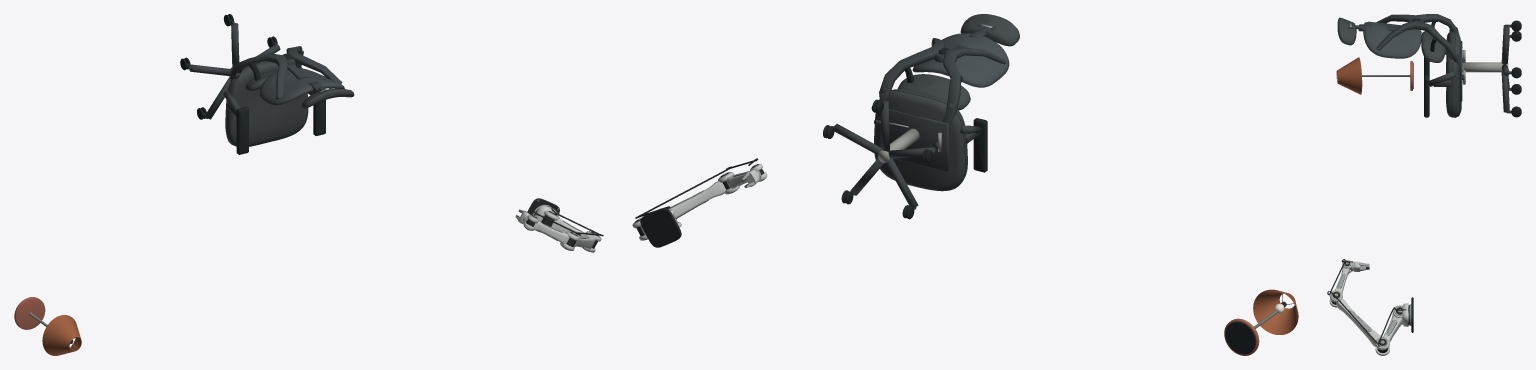
The model's file is desk-details.glb.
3 views of the same model, side by side, from view 1: azimuth 30°, elevation 25°; view 2: azimuth 150°, elevation 25°; view 3: azimuth 270°, elevation 25° (orthographic). The views are drawn at different scales.
Visible parts, largest first — view 1: C01 Upholstery / graphite twill, C01 Satin graphite casting, C01 Recessed carbon polymer, C01 Backrest / slate knit, R01 Robot powder-coated slate, L01 Satin copper shade, R01 Robot cable jacket, L01 Dusty terracotta lacquer; view 2: C01 Satin graphite casting, C01 Upholstery / graphite twill, C01 Backrest / slate knit, R01 Robot cable jacket, C01 Recessed carbon polymer, L01 Satin copper shade, R01 Robot powder-coated slate, L01 Recessed carbon polymer, C01 Turned fasteners; view 3: C01 Satin graphite casting, C01 Upholstery / graphite twill, C01 Backrest / slate knit, R01 Robot powder-coated slate, C01 Recessed carbon polymer, L01 Satin copper shade, R01 Robot machined bearing rims, R01 Robot cable jacket, C01 Turned fasteners, C01 Bound upholstery seam, R01 Recessed carbon polymer.
Part boxes in pixels (x1,y1,x2,y2): C01 Upholstery / graphite twill: (225,61,354,146); C01 Satin graphite casting: (187,19,342,119); C01 Recessed carbon polymer: (180,14,325,154); C01 Backrest / slate knit: (259,68,344,105); R01 Robot powder-coated slate: (518,205,601,252); L01 Satin copper shade: (42,315,81,355); R01 Robot cable jacket: (516,198,603,248); L01 Dusty terracotta lacquer: (14,297,45,329); C01 Satin graphite casting: (833,22,1006,209); C01 Upholstery / graphite twill: (874,14,1019,190); C01 Backrest / slate knit: (912,33,1009,87); R01 Robot cable jacket: (635,158,764,247); C01 Recessed carbon polymer: (823,47,987,219); L01 Satin copper shade: (1253,289,1298,334); R01 Robot powder-coated slate: (632,164,767,240); L01 Recessed carbon polymer: (1225,301,1286,354); C01 Turned fasteners: (878,24,992,162); C01 Satin graphite casting: (1348,14,1511,113); C01 Upholstery / graphite twill: (1337,17,1461,117); C01 Backrest / slate knit: (1363,21,1421,58); R01 Robot powder-coated slate: (1329,260,1408,355); C01 Recessed carbon polymer: (1412,18,1521,117); L01 Satin copper shade: (1336,57,1362,94); R01 Robot machined bearing rims: (1331,260,1411,347); R01 Robot cable jacket: (1327,259,1413,353); C01 Turned fasteners: (1350,23,1508,84); C01 Bound upholstery seam: (1337,21,1455,117); R01 Recessed carbon polymer: (1332,262,1409,345).
Bounding box in the file's own units: 3.82 × 1.6 × 1.3.
14 materials, 2 textured.
